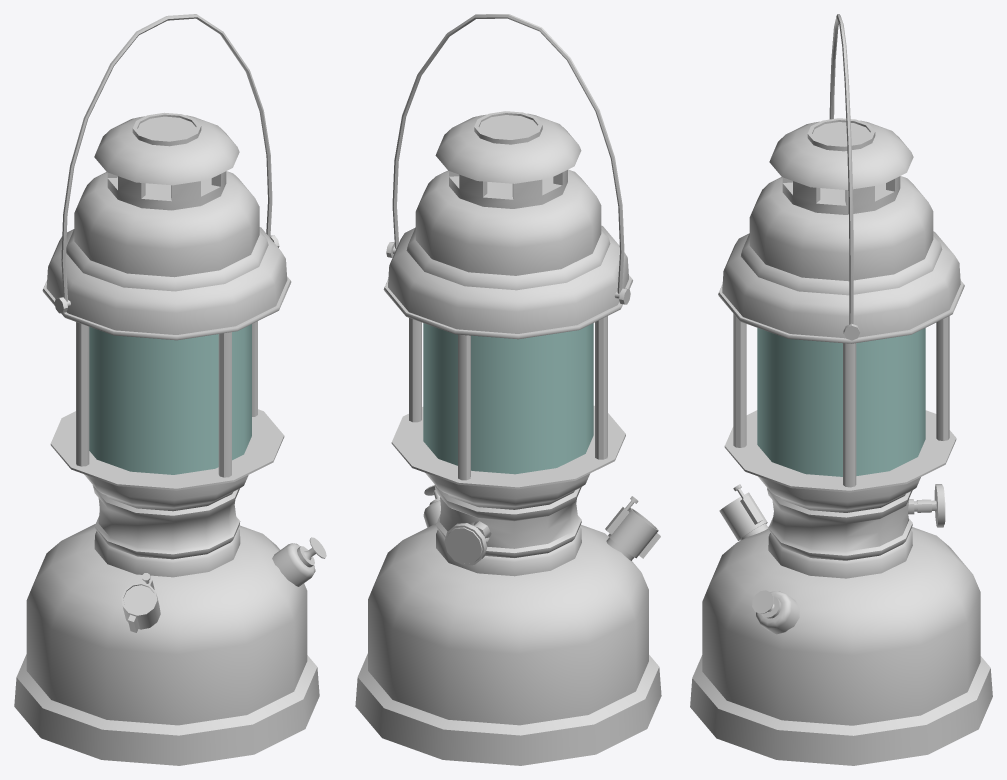
File: Lampada.fbx
3 views of the same model, side by side, from view 1: azimuth 30°, elevation 25°; view 2: azimuth 150°, elevation 25°; view 3: azimuth 270°, elevation 25° (orthographic).
Visible parts, largest first — view 1: Cylinder.011; view 2: Cylinder.011; view 3: Cylinder.011.
Part boxes in pixels (<box>): Cylinder.011: <box>14,14,326,765</box>; Cylinder.011: <box>355,14,661,765</box>; Cylinder.011: <box>690,14,992,765</box>.
Size of the model in its own units: 70.54 by 175 by 70.54.
